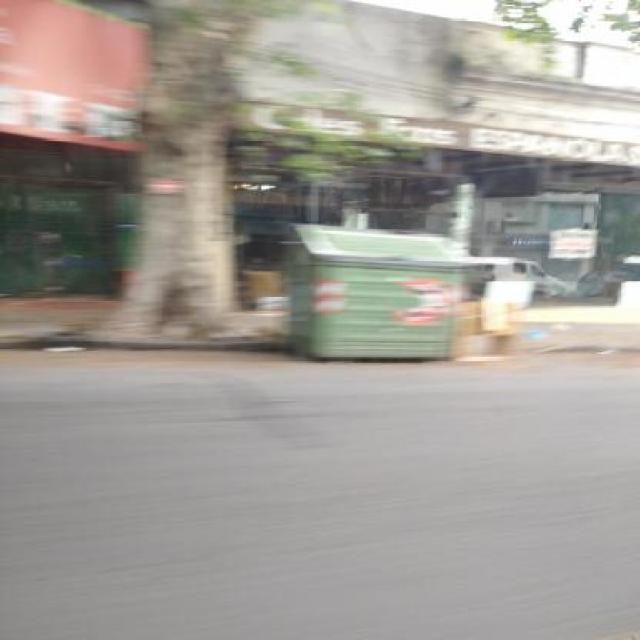garbage: (325, 205, 560, 376)
